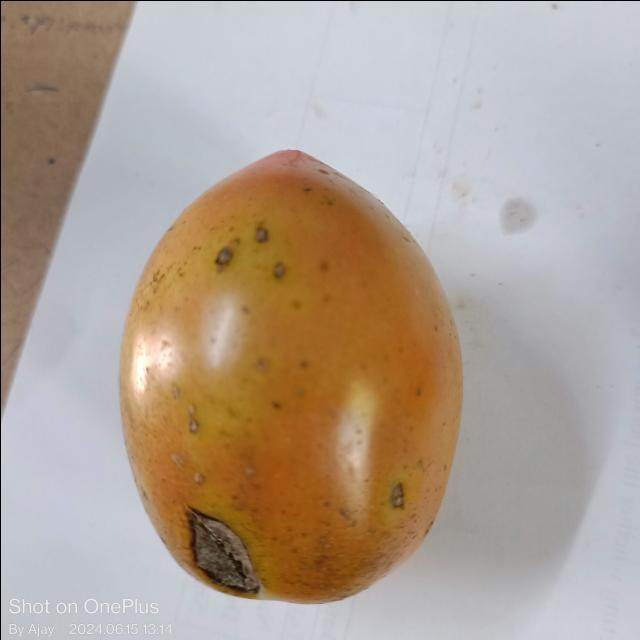Bacterial_Spot: (183, 502, 259, 590), (388, 479, 414, 509), (211, 246, 235, 268), (250, 221, 272, 243), (272, 258, 290, 280)
